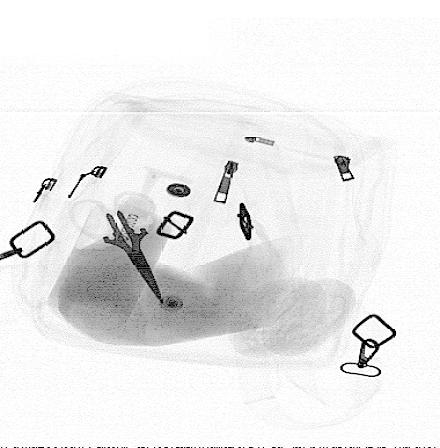Scissors: (68, 188, 163, 307)
